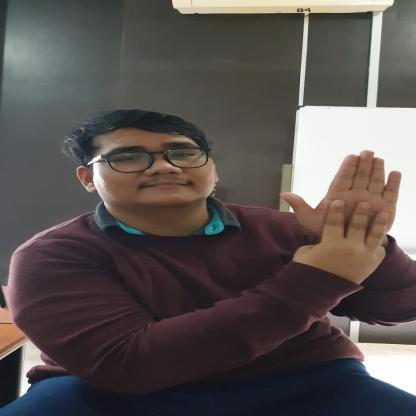M: (276, 148, 406, 265)
